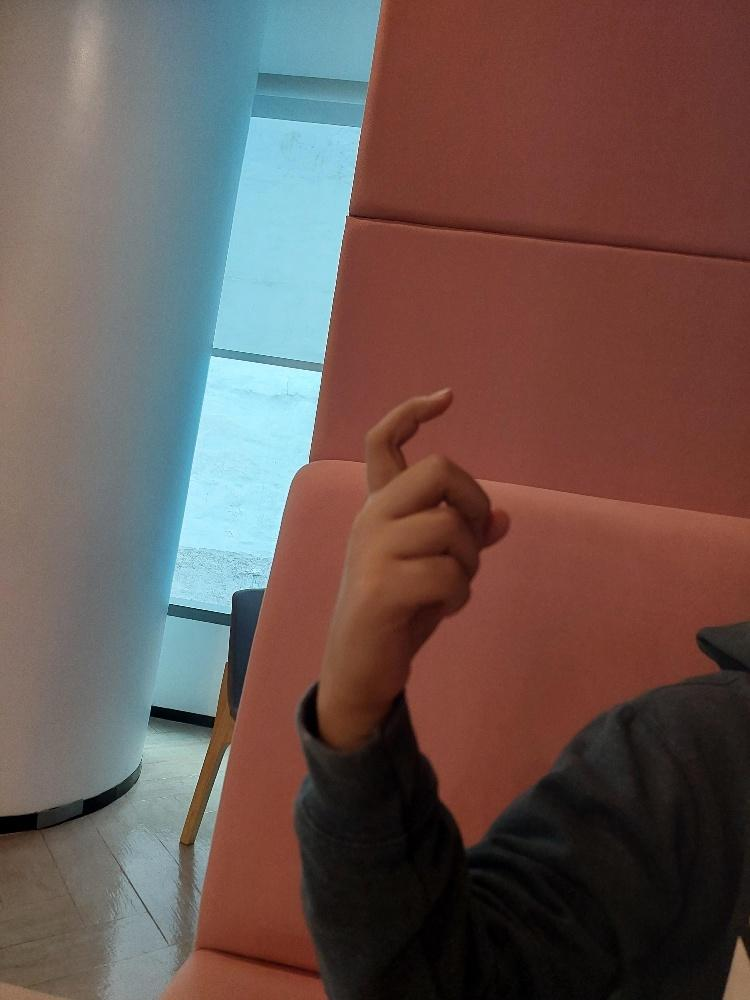x: (315, 380, 518, 705)
